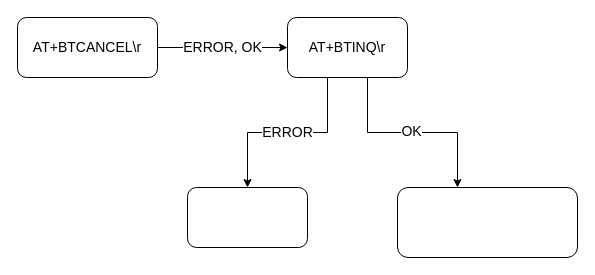
The diagram is 595 pixels wide and 275 high, and some of its shapes have lost their labels. Here are the shapes that lost their labels. From the top down, the box of each, then its label:
(186, 186, 308, 248): OPERATION FAILURE
(396, 186, 578, 258): DEVICE_BT_ADDRESS, DEVICE_NAME, DEVICE_COD
